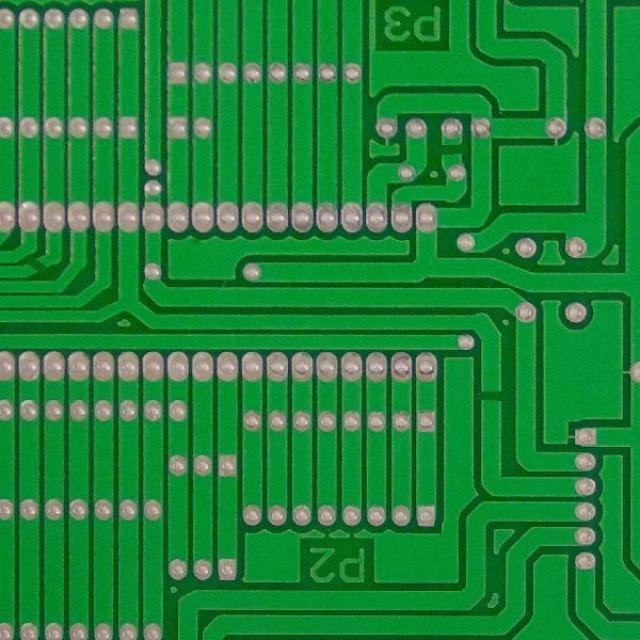Open_Circuit: (464, 380, 524, 415), (432, 138, 474, 166), (20, 252, 59, 280)
